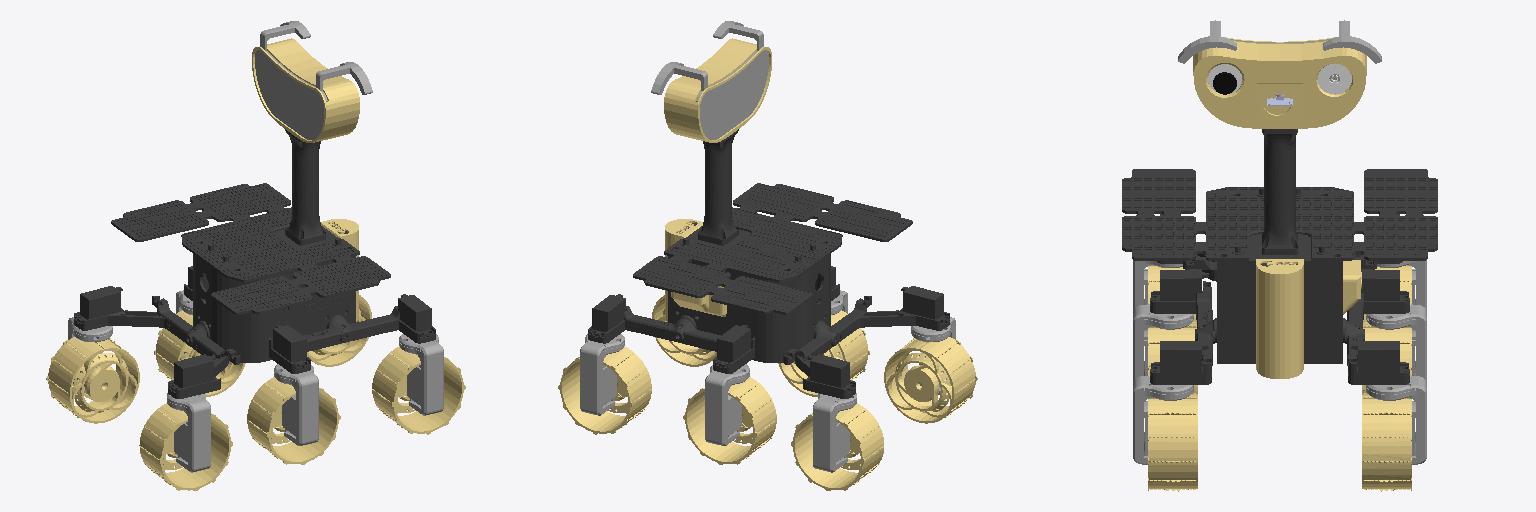
--- What the picture shows (computed from the rendered views, not written in the file) ---
The picture shows the robot from 3 angles, left to right: view 1: azimuth 30°, elevation 25°; view 2: azimuth 150°, elevation 25°; view 3: azimuth 270°, elevation 25°; orthographic projection.
Robot: A01_ExoMy — 23 links, 22 joints (13 continuous, 9 fixed); root link base_link; default pose: all joints at 0.
Visible links, largest first — view 1: base_link, DRV_LR_link, MRB_link, hat_link, RFB_link, head_link, DRV_RR_link, DRV_RF_link, DRV_RM_link, STR_RM_link, STR_RF_link, STR_RR_link (+4 smaller); view 2: base_link, DRV_RR_link, MRB_link, hat_link, LFB_link, head_link, DRV_LR_link, DRV_LF_link, DRV_LM_link, STR_LM_link, STR_LF_link, STR_LR_link (+4 smaller); view 3: base_link, head_link, bling_link, RFB_link, LFB_link, DRV_RF_link, DRV_LF_link, STR_RF_link, STR_LF_link, hat_link, STR_RM_link, STR_LM_link (+6 smaller).
Boxes of the visible links, x1,y1,x2,y2 form: base_link: (111,129,390,362); DRV_LR_link: (46,337,139,423); MRB_link: (74,286,240,398); hat_link: (255,21,372,139); RFB_link: (269,294,435,373); head_link: (252,38,359,142); DRV_RR_link: (139,403,232,490); DRV_RF_link: (372,346,465,434); DRV_RM_link: (247,377,340,464); STR_RM_link: (274,364,318,445); STR_RF_link: (399,334,443,415); STR_RR_link: (167,393,210,472); base_link: (633,129,912,362); DRV_RR_link: (884,337,977,423); MRB_link: (783,286,949,398); hat_link: (651,21,768,139); LFB_link: (588,294,754,373); head_link: (664,38,771,142); DRV_LR_link: (791,403,883,490); DRV_LF_link: (558,346,651,434); DRV_LM_link: (683,377,776,464); STR_LM_link: (705,364,749,445); STR_LF_link: (580,334,624,415); STR_LR_link: (813,393,856,472); base_link: (1122,129,1437,363); head_link: (1193,37,1366,128); bling_link: (1256,259,1361,378); RFB_link: (1150,269,1214,384); LFB_link: (1345,269,1409,384); DRV_RF_link: (1148,393,1197,491); DRV_LF_link: (1362,393,1411,491); STR_RF_link: (1133,376,1193,464); STR_LF_link: (1366,376,1426,464); hat_link: (1178,20,1381,81); STR_RM_link: (1133,304,1193,380); STR_LM_link: (1366,304,1426,380).
Size in the robot's own frame: 0.3929 by 0.3 by 0.441 metres.
22 mesh visuals loaded from 23 distinct referenced files (22 binary STL); not drawn: 1 (reference not matched to a file when rendering).

The robot description file, URDF, robot "A01_ExoMy":
<?xml version="1.0" encoding="utf-8"?>
<!-- This URDF was automatically created by SolidWorks to URDF Exporter! Originally created by Stephen Brawner ([email redacted]) 
     Commit Version: 1.6.0-4-g7f85cfe  Build Version: 1.6.7995.38578
     For more information, please see http://wiki.ros.org/sw_urdf_exporter -->
<robot
  name="A01_ExoMy">
  <link
    name="base_link">
    <inertial>
      <origin
        xyz="0.00344217286660819 -0.00059358231404421 0.0800225110677588"
        rpy="0 0 0" />
      <mass
        value="0.461792601094852" />
      <inertia
        ixx="0.00103940886102509"
        ixy="5.84920046881059E-06"
        ixz="-4.21789087708618E-06"
        iyy="0.00145552483450489"
        iyz="5.85702311398796E-06"
        izz="0.00181351390148521" />
    </inertial>
    <visual>
      <origin
        xyz="0 0 0"
        rpy="0 0 0" />
      <geometry>
        <mesh
          filename="package://A01_ExoMy/meshes/base_link.STL" />
      </geometry>
      <material
        name="">
        <color
          rgba="0.298039215686275 0.298039215686275 0.298039215686275 1" />
      </material>
    </visual>
    <collision>
      <origin
        xyz="0 0 0"
        rpy="0 0 0" />
      <geometry>
        <mesh
          filename="package://A01_ExoMy/meshes/base_link.STL" />
      </geometry>
    </collision>
  </link>
  <link
    name="MRB_link">
    <inertial>
      <origin
        xyz="-1.94916821852514E-05 0.00515672874720715 -0.0528517097462781"
        rpy="0 0 0" />
      <mass
        value="0.105561356957775" />
      <inertia
        ixx="4.60284820956404E-05"
        ixy="3.16960678741699E-09"
        ixz="7.76760980511555E-08"
        iyy="0.000262746083597657"
        iyz="-4.28210035683277E-07"
        izz="0.000230606772872478" />
    </inertial>
    <visual>
      <origin
        xyz="0 0 0"
        rpy="0 0 0" />
      <geometry>
        <mesh
          filename="package://A01_ExoMy/meshes/MRB_link.STL" />
      </geometry>
      <material
        name="">
        <color
          rgba="0.298039215686275 0.298039215686275 0.298039215686275 1" />
      </material>
    </visual>
    <collision>
      <origin
        xyz="0 0 0"
        rpy="0 0 0" />
      <geometry>
        <mesh
          filename="package://A01_ExoMy/meshes/MRB_link.STL" />
      </geometry>
    </collision>
  </link>
  <joint
    name="MRB_joint"
    type="continuous">
    <origin
      xyz="-0.082 0 0.017"
      rpy="1.5708 0 1.5708" />
    <parent
      link="base_link" />
    <child
      link="MRB_link" />
    <axis
      xyz="0 0 -1" />
    <limit
      lower="-1"
      upper="1"
      effort="0"
      velocity="0" />
  </joint>
  <link
    name="STR_LR_link">
    <inertial>
      <origin
        xyz="-0.0124570291004616 0.000225486285520549 -0.0337605009553563"
        rpy="0 0 0" />
      <mass
        value="0.0711741624806839" />
      <inertia
        ixx="3.36879478479989E-05"
        ixy="-8.98028473569693E-09"
        ixz="-4.73850731914463E-06"
        iyy="4.10598360484864E-05"
        iyz="-1.40355471129971E-07"
        izz="1.59152321238693E-05" />
    </inertial>
    <visual>
      <origin
        xyz="0 0 0"
        rpy="0 0 0" />
      <geometry>
        <mesh
          filename="package://A01_ExoMy/meshes/STR_LR_link.STL" />
      </geometry>
      <material
        name="">
        <color
          rgba="0.698039215686274 0.698039215686274 0.698039215686274 1" />
      </material>
    </visual>
    <collision>
      <origin
        xyz="0 0 0"
        rpy="0 0 0" />
      <geometry>
        <mesh
          filename="package://A01_ExoMy/meshes/STR_LR_link.STL" />
      </geometry>
    </collision>
  </link>
  <joint
    name="STR_LR_joint"
    type="continuous">
    <origin
      xyz="0.10378 -0.015418 -0.080775"
      rpy="1.5708 0 3.1416" />
    <parent
      link="MRB_link" />
    <child
      link="STR_LR_link" />
    <axis
      xyz="0 0 -1" />
    <limit
      lower="-1.57"
      upper="1.57"
      effort="0"
      velocity="0" />
  </joint>
  <link
    name="DRV_LR_link">
    <inertial>
      <origin
        xyz="-0.00746718154845785 0.000210617627838146 4.38837841898465E-08"
        rpy="0 0 0" />
      <mass
        value="0.0569725827075566" />
      <inertia
        ixx="8.04986816304344E-05"
        ixy="6.30117671072126E-08"
        ixz="1.21312268717688E-11"
        iyy="5.21106389985385E-05"
        iyz="-1.42808035703767E-11"
        izz="5.23057476713962E-05" />
    </inertial>
    <visual>
      <origin
        xyz="0 0 0"
        rpy="0 0 0" />
      <geometry>
        <mesh
          filename="package://A01_ExoMy/meshes/DRV_LR_link.STL" />
      </geometry>
      <material
        name="">
        <color
          rgba="0.968627450980392 0.87843137254902 0.6 1" />
      </material>
    </visual>
    <collision>
      <origin
        xyz="0 0 0"
        rpy="0 0 0" />
      <geometry>
        <mesh
          filename="package://A01_ExoMy/meshes/DRV_LR_link.STL" />
      </geometry>
    </collision>
  </link>
  <joint
    name="DRV_LR_joint"
    type="continuous">
    <origin
      xyz="0.0023862000000006 0 -0.05724350028868"
      rpy="-1.5707963267949 0 -3.14159265358979" />
    <parent
      link="STR_LR_link" />
    <child
      link="DRV_LR_link" />
    <axis
      xyz="1 0 0" />
  </joint>
  <link
    name="STR_RR_link">
    <inertial>
      <origin
        xyz="-0.0124555119208884 -0.000225533347372769 -0.0337608863892043"
        rpy="0 0 0" />
      <mass
        value="0.0711731050126798" />
      <inertia
        ixx="3.36872651588371E-05"
        ixy="8.07921106507512E-09"
        ixz="-4.74135535856893E-06"
        iyy="4.10633342806445E-05"
        iyz="1.40511475045121E-07"
        izz="1.59192004790093E-05" />
    </inertial>
    <visual>
      <origin
        xyz="0 0 0"
        rpy="0 0 0" />
      <geometry>
        <mesh
          filename="package://A01_ExoMy/meshes/STR_RR_link.STL" />
      </geometry>
      <material
        name="">
        <color
          rgba="0.698039215686274 0.698039215686274 0.698039215686274 1" />
      </material>
    </visual>
    <collision>
      <origin
        xyz="0 0 0"
        rpy="0 0 0" />
      <geometry>
        <mesh
          filename="package://A01_ExoMy/meshes/STR_RR_link.STL" />
      </geometry>
    </collision>
  </link>
  <joint
    name="STR_RR_joint"
    type="continuous">
    <origin
      xyz="-0.103779999964964 -0.0154182000000004 -0.0807754997113317"
      rpy="-1.5707963267949 0 0" />
    <parent
      link="MRB_link" />
    <child
      link="STR_RR_link" />
    <axis
      xyz="0 0 -1" />
    <limit
      lower="0"
      upper="0"
      effort="0"
      velocity="0" />
  </joint>
  <link
    name="DRV_RR_link">
    <inertial>
      <origin
        xyz="0.0074671815484578 0.000210617627838153 -4.38837842176021E-08"
        rpy="0 0 0" />
      <mass
        value="0.0569725827075565" />
      <inertia
        ixx="8.04986816304343E-05"
        ixy="-6.30117671071997E-08"
        ixz="1.21312268599669E-11"
        iyy="5.21106389985385E-05"
        iyz="1.42808035977901E-11"
        izz="5.23057476713962E-05" />
    </inertial>
    <visual>
      <origin
        xyz="0 0 0"
        rpy="0 0 0" />
      <geometry>
        <mesh
          filename="package://A01_ExoMy/meshes/DRV_RR_link.STL" />
      </geometry>
      <material
        name="">
        <color
          rgba="0.968627450980392 0.87843137254902 0.6 1" />
      </material>
    </visual>
    <collision>
      <origin
        xyz="0 0 0"
        rpy="0 0 0" />
      <geometry>
        <mesh
          filename="package://A01_ExoMy/meshes/DRV_RR_link.STL" />
      </geometry>
    </collision>
  </link>
  <joint
    name="DRV_RR_joint"
    type="continuous">
    <origin
      xyz="0.00238620000000062 0 -0.05724350028868"
      rpy="-1.5707963267949 0 0" />
    <parent
      link="STR_RR_link" />
    <child
      link="DRV_RR_link" />
    <axis
      xyz="1 0 0" />
  </joint>
  <link
    name="RFB_link">
    <inertial>
      <origin
        xyz="1.60029179709226E-05 -0.00628258071164517 -0.026325831075585"
        rpy="0 0 0" />
      <mass
        value="0.0924731806739564" />
      <inertia
        ixx="2.29318170766289E-05"
        ixy="-4.34816441416897E-09"
        ixz="1.98434655213747E-09"
        iyy="0.000122753678018952"
        iyz="4.18265325956463E-07"
        izz="0.00011348341722108" />
    </inertial>
    <visual>
      <origin
        xyz="0 0 0"
        rpy="0 0 0" />
      <geometry>
        <mesh
          filename="package://A01_ExoMy/meshes/RFB_link.STL" />
      </geometry>
      <material
        name="">
        <color
          rgba="0.298039215686275 0.298039215686275 0.298039215686275 1" />
      </material>
    </visual>
    <collision>
      <origin
        xyz="0 0 0"
        rpy="0 0 0" />
      <geometry>
        <mesh
          filename="package://A01_ExoMy/meshes/RFB_link.STL" />
      </geometry>
    </collision>
  </link>
  <joint
    name="RFB_joint"
    type="continuous">
    <origin
      xyz="0.055 -0.062 0.017"
      rpy="-1.5708 0 0" />
    <parent
      link="base_link" />
    <child
      link="RFB_link" />
    <axis
      xyz="0 0 1" />
    <limit
      lower="0"
      upper="0"
      effort="0"
      velocity="0" />
  </joint>
  <link
    name="STR_RF_link">
    <inertial>
      <origin
        xyz="0.000225533347372714 -0.0124555119208887 -0.0337608863892036"
        rpy="0 0 0" />
      <mass
        value="0.0711731050126818" />
      <inertia
        ixx="4.10633342806453E-05"
        ixy="-8.07921106508335E-09"
        ixz="-1.40511475044935E-07"
        iyy="3.3687265158838E-05"
        iyz="-4.74135535856885E-06"
        izz="1.59192004790093E-05" />
    </inertial>
    <visual>
      <origin
        xyz="0 0 0"
        rpy="0 0 0" />
      <geometry>
        <mesh
          filename="package://A01_ExoMy/meshes/STR_RF_link.STL" />
      </geometry>
      <material
        name="">
        <color
          rgba="0.698039215686274 0.698039215686274 0.698039215686274 1" />
      </material>
    </visual>
    <collision>
      <origin
        xyz="0 0 0"
        rpy="0 0 0" />
      <geometry>
        <mesh
          filename="package://A01_ExoMy/meshes/STR_RF_link.STL" />
      </geometry>
    </collision>
  </link>
  <joint
    name="STR_RF_joint"
    type="continuous">
    <origin
      xyz="0.0799999999649666 0.0154182000000003 -0.0417754997113214"
      rpy="1.5707963267949 0 0" />
    <parent
      link="RFB_link" />
    <child
      link="STR_RF_link" />
    <axis
      xyz="0 0 1" />
    <limit
      lower="0"
      upper="0"
      effort="0"
      velocity="0" />
  </joint>
  <link
    name="DRV_RF_link">
    <inertial>
      <origin
        xyz="4.38837842731132E-08 0.000210617627838139 0.00746718154845782"
        rpy="0 0 0" />
      <mass
        value="0.0569725827075564" />
      <inertia
        ixx="5.23057476713962E-05"
        ixy="-1.42808035790192E-11"
        ixz="-1.21312266386015E-11"
        iyy="5.21106389985385E-05"
        iyz="-6.30117671072073E-08"
        izz="8.04986816304343E-05" />
    </inertial>
    <visual>
      <origin
        xyz="0 0 0"
        rpy="0 0 0" />
      <geometry>
        <mesh
          filename="package://A01_ExoMy/meshes/DRV_RF_link.STL" />
      </geometry>
      <material
        name="">
        <color
          rgba="0.968627450980392 0.87843137254902 0.6 1" />
      </material>
    </visual>
    <collision>
      <origin
        xyz="0 0 0"
        rpy="0 0 0" />
      <geometry>
        <mesh
          filename="package://A01_ExoMy/meshes/DRV_RF_link.STL" />
      </geometry>
    </collision>
  </link>
  <joint
    name="DRV_RF_joint"
    type="continuous">
    <origin
      xyz="0 0.00238620000000059 -0.05724350028868"
      rpy="-1.5707963267949 0 0" />
    <parent
      link="STR_RF_link" />
    <child
      link="DRV_RF_link" />
    <axis
      xyz="0 0 1" />
  </joint>
  <link
    name="STR_RM_link">
    <inertial>
      <origin
        xyz="-0.000225486285520462 -0.0124570291004618 -0.0337605009553562"
        rpy="0 0 0" />
      <mass
        value="0.0711741624806848" />
      <inertia
        ixx="4.10598360484869E-05"
        ixy="8.98028473569694E-09"
        ixz="1.40355471129991E-07"
        iyy="3.36879478479993E-05"
        iyz="-4.73850731914455E-06"
        izz="1.59152321238695E-05" />
    </inertial>
    <visual>
      <origin
        xyz="0 0 0"
        rpy="0 0 0" />
      <geometry>
        <mesh
          filename="package://A01_ExoMy/meshes/STR_RM_link.STL" />
      </geometry>
      <material
        name="">
        <color
          rgba="0.698039215686274 0.698039215686274 0.698039215686274 1" />
      </material>
    </visual>
    <collision>
      <origin
        xyz="0 0 0"
        rpy="0 0 0" />
      <geometry>
        <mesh
          filename="package://A01_ExoMy/meshes/STR_RM_link.STL" />
      </geometry>
    </collision>
  </link>
  <joint
    name="STR_RM_joint"
    type="fixed">
    <origin
      xyz="-0.0799999999999998 0.0154182000000003 -0.0417754997000026"
      rpy="1.5707963267949 0 0" />
    <parent
      link="RFB_link" />
    <child
      link="STR_RM_link" />
    <axis
      xyz="0 0 1" />
  </joint>
  <link
    name="DRV_RM_link">
    <inertial>
      <origin
        xyz="4.37738161586376E-08 0.000210617517870139 0.0074671815515602"
        rpy="0 0 0" />
      <mass
        value="0.0569725827075565" />
      <inertia
        ixx="5.23057476713966E-05"
        ixy="-1.42798754232894E-11"
        ixz="-1.25464200242674E-11"
        iyy="5.21106390003944E-05"
        iyz="-6.30121851736896E-08"
        izz="8.0498681628578E-05" />
    </inertial>
    <visual>
      <origin
        xyz="0 0 0"
        rpy="0 0 0" />
      <geometry>
        <mesh
          filename="package://A01_ExoMy/meshes/DRV_RM_link.STL" />
      </geometry>
      <material
        name="">
        <color
          rgba="0.968627450980392 0.87843137254902 0.6 1" />
      </material>
    </visual>
    <collision>
      <origin
        xyz="0 0 0"
        rpy="0 0 0" />
      <geometry>
        <mesh
          filename="package://A01_ExoMy/meshes/DRV_RM_link.STL" />
      </geometry>
    </collision>
  </link>
  <joint
    name="DRV_RM_joint"
    type="continuous">
    <origin
      xyz="0 0.00238620000000059 -0.05724350028868"
      rpy="-1.57079634152174 0 0" />
    <parent
      link="STR_RM_link" />
    <child
      link="DRV_RM_link" />
    <axis
      xyz="0 0 1" />
  </joint>
  <link
    name="LFB_link">
    <inertial>
      <origin
        xyz="-1.60029179707352E-05 -0.00628258071164518 0.026325831075585"
        rpy="0 0 0" />
      <mass
        value="0.0924731806739563" />
      <inertia
        ixx="2.29318170766289E-05"
        ixy="4.34816441416009E-09"
        ixz="1.98434655278348E-09"
        iyy="0.000122753678018952"
        iyz="-4.18265325956468E-07"
        izz="0.00011348341722108" />
    </inertial>
    <visual>
      <origin
        xyz="0 0 0"
        rpy="0 0 0" />
      <geometry>
        <mesh
          filename="package://A01_ExoMy/meshes/LFB_link.STL" />
      </geometry>
      <material
        name="">
        <color
          rgba="0.298039215686275 0.298039215686275 0.298039215686275 1" />
      </material>
    </visual>
    <collision>
      <origin
        xyz="0 0 0"
        rpy="0 0 0" />
      <geometry>
        <mesh
          filename="package://A01_ExoMy/meshes/LFB_link.STL" />
      </geometry>
    </collision>
  </link>
  <joint
    name="LFB_joint"
    type="continuous">
    <origin
      xyz="0.055 0.062 0.017"
      rpy="-1.5708 0 0" />
    <parent
      link="base_link" />
    <child
      link="LFB_link" />
    <axis
      xyz="0 0 1" />
  </joint>
  <link
    name="STR_LF_link">
    <inertial>
      <origin
        xyz="0.000225486285520049 0.0124570291004616 -0.0337605009553563"
        rpy="0 0 0" />
      <mass
        value="0.0711741624806841" />
      <inertia
        ixx="4.10598360484865E-05"
        ixy="8.98028473594072E-09"
        ixz="-1.40355471130151E-07"
        iyy="3.3687947847999E-05"
        iyz="4.73850731914464E-06"
        izz="1.59152321238694E-05" />
    </inertial>
    <visual>
      <origin
        xyz="0 0 0"
        rpy="0 0 0" />
      <geometry>
        <mesh
          filename="package://A01_ExoMy/meshes/STR_LF_link.STL" />
      </geometry>
      <material
        name="">
        <color
          rgba="0.698039215686274 0.698039215686274 0.698039215686274 1" />
      </material>
    </visual>
    <collision>
      <origin
        xyz="0 0 0"
        rpy="0 0 0" />
      <geometry>
        <mesh
          filename="package://A01_ExoMy/meshes/STR_LF_link.STL" />
      </geometry>
    </collision>
  </link>
  <joint
    name="STR_LF_joint"
    type="continuous">
    <origin
      xyz="0.0800000000000002 0.0154182000000003 0.0417754997000019"
      rpy="1.5707963267949 0 0" />
    <parent
      link="LFB_link" />
    <child
      link="STR_LF_link" />
    <axis
      xyz="0 0 1" />
  </joint>
  <link
    name="DRV_LF_link">
    <inertial>
      <origin
        xyz="-4.38837841898465E-08 0.000210617627838139 -0.00746718154845781"
        rpy="0 0 0" />
      <mass
        value="0.0569725827075565" />
      <inertia
        ixx="5.23057476713961E-05"
        ixy="1.42808035655077E-11"
        ixz="-1.21312268806249E-11"
        iyy="5.21106389985386E-05"
        iyz="6.30117671071966E-08"
        izz="8.04986816304343E-05" />
    </inertial>
    <visual>
      <origin
        xyz="0 0 0"
        rpy="0 0 0" />
      <geometry>
        <mesh
          filename="package://A01_ExoMy/meshes/DRV_LF_link.STL" />
      </geometry>
      <material
        name="">
        <color
          rgba="0.968627450980392 0.87843137254902 0.6 1" />
      </material>
    </visual>
    <collision>
      <origin
        xyz="0 0 0"
        rpy="0 0 0" />
      <geometry>
        <mesh
          filename="package://A01_ExoMy/meshes/DRV_LF_link.STL" />
      </geometry>
    </collision>
  </link>
  <joint
    name="DRV_LF_joint"
    type="continuous">
    <origin
      xyz="0 -0.0023862000000006 -0.05724350028868"
      rpy="-1.5707963267949 0 0" />
    <parent
      link="STR_LF_link" />
    <child
      link="DRV_LF_link" />
    <axis
      xyz="0 0 1" />
  </joint>
  <link
    name="STR_LM_link">
    <inertial>
      <origin
        xyz="-0.000225533347373009 0.0124555119208885 -0.0337608863892038"
        rpy="0 0 0" />
      <mass
        value="0.0711731050126813" />
      <inertia
        ixx="4.10633342806452E-05"
        ixy="-8.07921106488509E-09"
        ixz="1.40511475044828E-07"
        iyy="3.36872651588378E-05"
        iyz="4.74135535856902E-06"
        izz="1.59192004790094E-05" />
    </inertial>
    <visual>
      <origin
        xyz="0 0 0"
        rpy="0 0 0" />
      <geometry>
        <mesh
          filename="package://A01_ExoMy/meshes/STR_LM_link.STL" />
      </geometry>
      <material
        name="">
        <color
          rgba="0.698039215686274 0.698039215686274 0.698039215686274 1" />
      </material>
    </visual>
    <collision>
      <origin
        xyz="0 0 0"
        rpy="0 0 0" />
      <geometry>
        <mesh
          filename="package://A01_ExoMy/meshes/STR_LM_link.STL" />
      </geometry>
    </collision>
  </link>
  <joint
    name="STR_LM_joint"
    type="fixed">
    <origin
      xyz="-0.0799999999649663 0.0154182000000003 0.041775499711322"
      rpy="1.5707963267949 0 0" />
    <parent
      link="LFB_link" />
    <child
      link="STR_LM_link" />
    <axis
      xyz="0 0 1" />
  </joint>
  <link
    name="DRV_LM_link">
    <inertial>
      <origin
        xyz="-4.37738164361934E-08 0.000210617737805917 -0.00746718154535669"
        rpy="0 0 0" />
      <mass
        value="0.0569725827075567" />
      <inertia
        ixx="5.23057476713966E-05"
        ixy="1.42798757809001E-11"
        ixz="-1.25464185710148E-11"
        iyy="5.21106389966827E-05"
        iyz="6.30113490421581E-08"
        izz="8.04986816322899E-05" />
    </inertial>
    <visual>
      <origin
        xyz="0 0 0"
        rpy="0 0 0" />
      <geometry>
        <mesh
          filename="package://A01_ExoMy/meshes/DRV_LM_link.STL" />
      </geometry>
      <material
        name="">
        <color
          rgba="0.968627450980392 0.87843137254902 0.6 1" />
      </material>
    </visual>
    <collision>
      <origin
        xyz="0 0 0"
        rpy="0 0 0" />
      <geometry>
        <mesh
          filename="package://A01_ExoMy/meshes/DRV_LM_link.STL" />
      </geometry>
    </collision>
  </link>
  <joint
    name="DRV_LM_joint"
    type="continuous">
    <origin
      xyz="0 -0.00238620000000062 -0.05724350028868"
      rpy="-1.5707963415217 0 0" />
    <parent
      link="STR_LM_link" />
    <child
      link="DRV_LM_link" />
    <axis
      xyz="0 0 1" />
  </joint>
  <link
    name="head_link">
    <inertial>
      <origin
        xyz="4.05099172861825E-05 0.0108850586865649 0.0292442059611974"
        rpy="0 0 0" />
      <mass
        value="0.078891512690109" />
      <inertia
        ixx="6.70251107353368E-05"
        ixy="2.39510957057558E-09"
        ixz="-1.02874991606384E-08"
        iyy="0.000206696832834382"
        iyz="-5.15030227255926E-07"
        izz="0.000246607733219876" />
    </inertial>
    <visual>
      <origin
        xyz="0 0 0"
        rpy="0 0 0" />
      <geometry>
        <mesh
          filename="package://A01_ExoMy/meshes/head_link.STL" />
      </geometry>
      <material
        name="">
        <color
          rgba="0.968627450980392 0.87843137254902 0.6 1" />
      </material>
    </visual>
    <collision>
      <origin
        xyz="0 0 0"
        rpy="0 0 0" />
      <geometry>
        <mesh
          filename="package://A01_ExoMy/meshes/head_link.STL" />
      </geometry>
    </collision>
  </link>
  <joint
    name="head_joint"
    type="fixed">
    <origin
      xyz="0.028 0 0.27028"
      rpy="1.5708 0 1.5708" />
    <parent
      link="base_link" />
    <child
      link="head_link" />
    <axis
      xyz="0 0 0" />
  </joint>
  <link
    name="eyewhite_link">
    <inertial>
      <origin
        xyz="0.0519999879024582 -3.12462373083244E-05 0.000860409568077425"
        rpy="0 0 0" />
      <mass
        value="0.00447909534854348" />
      <inertia
        ixx="4.71996017145732E-07"
        ixy="3.02527120041884E-13"
        ixz="-2.59196121234511E-14"
        iyy="4.71644858227357E-07"
        iyz="1.94300295539233E-11"
        izz="9.38560485421757E-07" />
    </inertial>
    <visual>
      <origin
        xyz="0 0 0"
        rpy="0 0 0" />
      <geometry>
        <mesh
          filename="package://A01_ExoMy/meshes/eyewhite_link.STL" />
      </geometry>
      <material
        name="">
        <color
          rgba="1 1 1 1" />
      </material>
    </visual>
    <collision>
      <origin
        xyz="0 0 0"
        rpy="0 0 0" />
      <geometry>
        <mesh
          filename="package://A01_ExoMy/meshes/eyewhite_link.STL" />
      </geometry>
    </collision>
  </link>
  <joint
    name="eyewhite_joint"
    type="fixed">
    <origin
      xyz="-0.0520000000000005 0.0230000000000001 0.039"
      rpy="0 0 0" />
    <parent
      link="head_link" />
    <child
      link="eyewhite_link" />
    <axis
      xyz="0 0 0" />
  </joint>
  <link
    name="pupil_left_link">
    <inertial>
      <origin
        xyz="0 0.00044940185687814 0.000632252497896571"
        rpy="0 0 0" />
      <mass
        value="0.000901852963073431" />
      <inertia
        ixx="2.89326801666712E-08"
        ixy="-1.65436122510606E-24"
        ixz="5.68686671130207E-25"
        iyy="2.7290995437859E-08"
        iyz="1.23645011521457E-09"
        izz="5.34701372980572E-08" />
    </inertial>
    <visual>
      <origin
        xyz="0 0 0"
        rpy="0 0 0" />
      <geometry>
        <mesh
          filename="package://A01_ExoMy/meshes/pupil_left_link.STL" />
      </geometry>
      <material
        name="">
        <color
          rgba="0.101960784313725 0.101960784313725 0.101960784313725 1" />
      </material>
    </visual>
    <collision>
      <origin
        xyz="0 0 0"
        rpy="0 0 0" />
      <geometry>
        <mesh
          filename="package://A01_ExoMy/meshes/pupil_left_link.STL" />
      </geometry>
    </collision>
  </link>
  <joint
    name="pupils_left_joint"
    type="fixed">
    <origin
      xyz="0.104605381251432 -0.00445909335408173 0.002"
      rpy="0 0 0.134938294798573" />
    <parent
      link="eyewhite_link" />
    <child
      link="pupil_left_link" />
    <axis
      xyz="0 0 0" />
  </joint>
  <link
    name="pupil_right_link">
    <inertial>
      <origin
        xyz="0 0.00044940185687814 0.000632252497896557"
        rpy="0 0 0" />
      <mass
        value="0.000901852963073431" />
      <inertia
        ixx="2.89326801666712E-08"
        ixy="-1.86115637824431E-24"
        ixz="-4.07127957740943E-24"
        iyy="2.7290995437859E-08"
        iyz="1.23645011521456E-09"
        izz="5.34701372980573E-08" />
    </inertial>
    <visual>
      <origin
        xyz="0 0 0"
        rpy="0 0 0" />
      <geometry>
        <mesh
          filename="package://A01_ExoMy/meshes/pupil_right_link.STL" />
      </geometry>
      <material
        name="">
        <color
          rgba="0.101960784313725 0.101960784313725 0.101960784313725 1" />
      </material>
    </visual>
    <collision>
      <origin
        xyz="0 0 0"
        rpy="0 0 0" />
      <geometry>
        <mesh
          filename="package://A01_ExoMy/meshes/pupil_right_link.STL" />
      </geometry>
    </collision>
  </link>
  <joint
    name="pupil_right_link"
    type="fixed">
    <origin
      xyz="-0.000265024281490438 -0.00449218901318976 0.00200000000000002"
      rpy="0 0 -0.0589283841917532" />
    <parent
      link="eyewhite_link" />
    <child
      link="pupil_right_link" />
    <axis
      xyz="0 0 0" />
  </joint>
  <link
    name="cam_link">
    <inertial>
      <origin
        xyz="-0.00249086473821636 0.000136649009533647 0.000569820673845048"
        rpy="0 0 0" />
      <mass
        value="0.00115745344893836" />
      <inertia
        ixx="3.97290092554322E-08"
        ixy="1.65336504821436E-13"
        ixz="-3.60412180476261E-11"
        iyy="2.88827920072805E-08"
        iyz="-2.52492241685602E-13"
        izz="6.76913771029694E-08" />
    </inertial>
    <visual>
      <origin
        xyz="0 0 0"
        rpy="0 0 0" />
      <geometry>
        <mesh
          filename="package://A01_ExoMy/meshes/cam_link.STL" />
      </geometry>
      <material
        name="">
        <color
          rgba="0.792156862745098 0.819607843137255 0.933333333333333 0.1" />
      </material>
    </visual>
    <collision>
      <origin
        xyz="0 0 0"
        rpy="0 0 0" />
      <geometry>
        <mesh
          filename="package://A01_ExoMy/meshes/cam_link.STL" />
      </geometry>
    </collision>
  </link>
  <joint
    name="cam_joint"
    type="fixed">
    <origin
      xyz="9.42151964158384E-05 0.00215468910946459 0.045"
      rpy="-1.57 -1.57 0" />
    <parent
      link="head_link" />
    <child
      link="cam_link" />
    <axis
      xyz="0 0 1" />
  </joint>
  <link
    name="hat_link">
    <inertial>
      <origin
        xyz="3.1955815895269E-08 0.0294025205083059 0.0152014899719377"
        rpy="0 0 0" />
      <mass
        value="0.0446228233973554" />
      <inertia
        ixx="4.85170602784381E-05"
        ixy="-7.36561851378345E-11"
        ixz="-4.45696698816653E-11"
        iyy="0.000137144944737089"
        iyz="-1.51319761954045E-05"
        izz="0.000157930625148711" />
    </inertial>
    <visual>
      <origin
        xyz="0 0 0"
        rpy="0 0 0" />
      <geometry>
        <mesh
          filename="package://A01_ExoMy/meshes/hat_link.STL" />
      </geometry>
      <material
        name="">
        <color
          rgba="0.698039215686274 0.698039215686274 0.698039215686274 1" />
      </material>
    </visual>
    <collision>
      <origin
        xyz="0 0 0"
        rpy="0 0 0" />
      <geometry>
        <mesh
          filename="package://A01_ExoMy/meshes/hat_link.STL" />
      </geometry>
    </collision>
  </link>
  <joint
    name="hat_joint"
    type="fixed">
    <origin
      xyz="0 -0.001 -0.001"
      rpy="0 0 0" />
    <parent
      link="head_link" />
    <child
      link="hat_link" />
    <axis
      xyz="0 0 0" />
  </joint>
  <link
    name="bling_link">
    <inertial>
      <origin
        xyz="-0.00941858500730604 0.0608951077495947 0.00842851931350633"
        rpy="0 0 0" />
      <mass
        value="0.0285646759081801" />
      <inertia
        ixx="3.23857140916041E-05"
        ixy="-1.71111741679125E-07"
        ixz="-1.77769620415169E-07"
        iyy="1.15196931600263E-05"
        iyz="2.33120957978E-07"
        izz="3.43023707157396E-05" />
    </inertial>
    <visual>
      <origin
        xyz="0 0 0"
        rpy="0 0 0" />
      <geometry>
        <mesh
          filename="package://A01_ExoMy/meshes/bling_link.STL" />
      </geometry>
      <material
        name="">
        <color
          rgba="0.968627450980392 0.87843137254902 0.6 1" />
      </material>
    </visual>
    <collision>
      <origin
        xyz="0 0 0"
        rpy="0 0 0" />
      <geometry>
        <mesh
          filename="package://A01_ExoMy/meshes/bling_link.STL" />
      </geometry>
    </collision>
  </link>
  <joint
    name="bling_joint"
    type="fixed">
    <origin
      xyz="0.08 0.0225 0"
      rpy="1.5707963267949 0 1.5707963267949" />
    <parent
      link="base_link" />
    <child
      link="bling_link" />
    <axis
      xyz="0 0 0" />
  </joint>
  
  <!-- camera -->
  <gazebo reference="cam_link">
    <sensor type="camera" name="camera1">
      <update_rate>30.0</update_rate>
      <camera name="head">
        <horizontal_fov>1.3962634</horizontal_fov>
        <image>
          <width>1366</width>
          <height>768</height>
          <format>R8G8B8</format>
        </image>
        <clip>
          <near>0.02</near>
          <far>300</far>
        </clip>
        <noise>
          <type>gaussian</type>
          <!-- Noise is sampled independently per pixel on each frame.
               That pixel's noise value is added to each of its color
               channels, which at that point lie in the range [0,1]. -->
          <mean>0.0</mean>
          <stddev>0.007</stddev>
        </noise>
      </camera>
      <plugin name="camera_controller" filename="libgazebo_ros_camera.so">
        <alwaysOn>true</alwaysOn>
        <updateRate>0.0</updateRate>
        <cameraName>rrbot/camera1</cameraName>
        <imageTopicName>image_raw</imageTopicName>
        <cameraInfoTopicName>camera_info</cameraInfoTopicName>
        <frameName>cam_link</frameName>
        <hackBaseline>0.07</hackBaseline>
        <distortionK1>0.0</distortionK1>
        <distortionK2>0.0</distortionK2>
        <distortionK3>0.0</distortionK3>
        <distortionT1>0.0</distortionT1>
        <distortionT2>0.0</distortionT2>
      </plugin>
    </sensor>
  </gazebo>
  
  <gazebo>
  <plugin name="differential_drive_controllerF" filename="libgazebo_ros_diff_drive_custom.so" >

    <!-- Plugin update rate in Hz -->
    <updateRate>100</updateRate>

    <!-- Name of left joint, defaults to `left_joint` -->
    <leftJoint>DRV_LF_joint</leftJoint>

    <!-- Name of right joint, defaults to `right_joint` -->
    <rightJoint>DRV_RF_joint</rightJoint>
    
    <STRRjoint>STR_RF_joint</STRRjoint>
    <STRLjoint>STR_LF_joint</STRLjoint>
    
    <turnDir>+</turnDir>

    <!-- The distance from the center of one wheel to the other, in meters, defaults to 0.34 m -->
    <wheelSeparation>0.2280</wheelSeparation>

    <!-- Diameter of the wheels, in meters, defaults to 0.15 m -->
    <wheelDiameter>0.08710</wheelDiameter>

    <!-- Wheel acceleration, in rad/s^2, defaults to 0.0 rad/s^2 -->
    <wheelAcceleration>1.0</wheelAcceleration>

    <!-- Maximum torque which the wheels can produce, in Nm, defaults to 5 Nm -->
    <wheelTorque>1</wheelTorque>

    <!-- Topic to receive geometry_msgs/Twist message commands, defaults to `cmd_vel` -->
    <commandTopic>/cmd_vel</commandTopic>

    <!-- Topic to publish nav_msgs/Odometry messages, defaults to `odom` -->
    <odometryTopic>odom</odometryTopic>

    <!-- Odometry frame, defaults to `odom` -->
    <odometryFrame>odom</odometryFrame>

    <!-- Robot frame to calculate odometry from, defaults to `base_footprint` -->
    <robotBaseFrame>base_link</robotBaseFrame>

    <!-- Odometry source, 0 for ENCODER, 1 for WORLD, defaults to WORLD -->
    <odometrySource>1</odometrySource>

    <!-- Set to true to publish transforms for the wheel links, defaults to false -->
    <publishWheelTF>true</publishWheelTF>

    <!-- Set to true to publish transforms for the odometry, defaults to true -->
    <publishOdom>true</publishOdom>

    <!-- Set to true to publish sensor_msgs/JointState on /joint_states for the wheel joints, defaults to false -->
    <publishWheelJointState>true</publishWheelJointState>

    <!-- Set to true to swap right and left wheels, defaults to true -->
    <legacyMode>false</legacyMode>
  </plugin>
  </gazebo>
  
  <gazebo>
  <plugin name="differential_drive_controllerM" filename="libgazebo_ros_diff_drive_custom.so" >

    <!-- Plugin update rate in Hz -->
    <updateRate>100</updateRate>

    <!-- Name of left joint, defaults to `left_joint` -->
    <leftJoint>DRV_LM_joint</leftJoint>

    <!-- Name of right joint, defaults to `right_joint` -->
    <rightJoint>DRV_RM_joint</rightJoint>
	
	
    <!-- The distance from the center of one wheel to the other, in meters, defaults to 0.34 m -->
    <wheelSeparation>0.2280</wheelSeparation>
    
    <STRRjoint>STR_RM_joint</STRRjoint>
    <STRLjoint>STR_LM_joint</STRLjoint>
    
   
    <!-- Diameter of the wheels, in meters, defaults to 0.15 m -->
    <wheelDiameter>0.08710</wheelDiameter>

    <!-- Wheel acceleration, in rad/s^2, defaults to 0.0 rad/s^2 -->
    <wheelAcceleration>1.0</wheelAcceleration>

    <!-- Maximum torque which the wheels can produce, in Nm, defaults to 5 Nm -->
    <wheelTorque>1</wheelTorque>

    <!-- Topic to receive geometry_msgs/Twist message commands, defaults to `cmd_vel` -->
    <commandTopic>/cmd_vel</commandTopic>

    <!-- Topic to publish nav_msgs/Odometry messages, defaults to `odom` -->
    <odometryTopic>odom</odometryTopic>

    <!-- Odometry frame, defaults to `odom` -->
    <odometryFrame>odom</odometryFrame>

    <!-- Robot frame to calculate odometry from, defaults to `base_footprint` -->
    <robotBaseFrame>base_link</robotBaseFrame>

    <!-- Odometry source, 0 for ENCODER, 1 for WORLD, defaults to WORLD -->
    <odometrySource>1</odometrySource>

    <!-- Set to true to publish transforms for the wheel links, defaults to false -->
    <publishWheelTF>true</publishWheelTF>

    <!-- Set to true to publish transforms for the odometry, defaults to true -->
    <publishOdom>true</publishOdom>

    <!-- Set to true to publish sensor_msgs/JointState on /joint_states for the wheel joints, defaults to false -->

    <publishWheelJointState>true</publishWheelJointState>



    <!-- Set to true to swap right and left wheels, defaults to true -->

    <legacyMode>false</legacyMode>

  </plugin>

  </gazebo>
  
  
  <gazebo>
  <plugin name="differential_drive_controllerR" filename="libgazebo_ros_diff_drive_custom.so" >

    <!-- Plugin update rate in Hz -->
    <updateRate>100</updateRate>

    <!-- Name of left joint, defaults to `left_joint` -->
    <leftJoint>DRV_LR_joint</leftJoint>

    <!-- Name of right joint, defaults to `right_joint` -->
    <rightJoint>DRV_RR_joint</rightJoint>
    
    <STRRjoint>STR_RR_joint</STRRjoint>
    <STRLjoint>STR_LR_joint</STRLjoint>
    
    <turnDir>+</turnDir>

    <!-- The distance from the center of one wheel to the other, in meters, defaults to 0.34 m -->
    <wheelSeparation>0.2280</wheelSeparation>

    <!-- Diameter of the wheels, in meters, defaults to 0.15 m -->
    <wheelDiameter>0.08710</wheelDiameter>

    <!-- Wheel acceleration, in rad/s^2, defaults to 0.0 rad/s^2 -->
    <wheelAcceleration>1.0</wheelAcceleration>

    <!-- Maximum torque which the wheels can produce, in Nm, defaults to 5 Nm -->
    <wheelTorque>1</wheelTorque>

    <!-- Topic to receive geometry_msgs/Twist message commands, defaults to `cmd_vel` -->
    <commandTopic>/cmd_vel</commandTopic>

    <!-- Topic to publish nav_msgs/Odometry messages, defaults to `odom` -->
    <odometryTopic>odom</odometryTopic>

    <!-- Odometry frame, defaults to `odom` -->
    <odometryFrame>odom</odometryFrame>

    <!-- Robot frame to calculate odometry from, defaults to `base_footprint` -->
    <robotBaseFrame>base_link</robotBaseFrame>

    <!-- Odometry source, 0 for ENCODER, 1 for WORLD, defaults to WORLD -->
    <odometrySource>1</odometrySource>

    <!-- Set to true to publish transforms for the wheel links, defaults to false -->
    <publishWheelTF>true</publishWheelTF>

    <!-- Set to true to publish transforms for the odometry, defaults to true -->
    <publishOdom>true</publishOdom>

    <!-- Set to true to publish sensor_msgs/JointState on /joint_states for the wheel joints, defaults to false -->

    <publishWheelJointState>true</publishWheelJointState>



    <!-- Set to true to swap right and left wheels, defaults to true -->

    <legacyMode>false</legacyMode>

  </plugin>

  </gazebo>
</robot>
